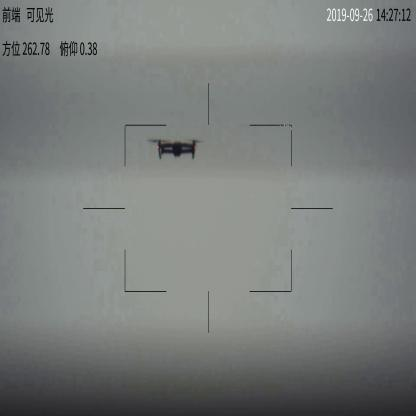uav: (149, 136, 205, 161)
